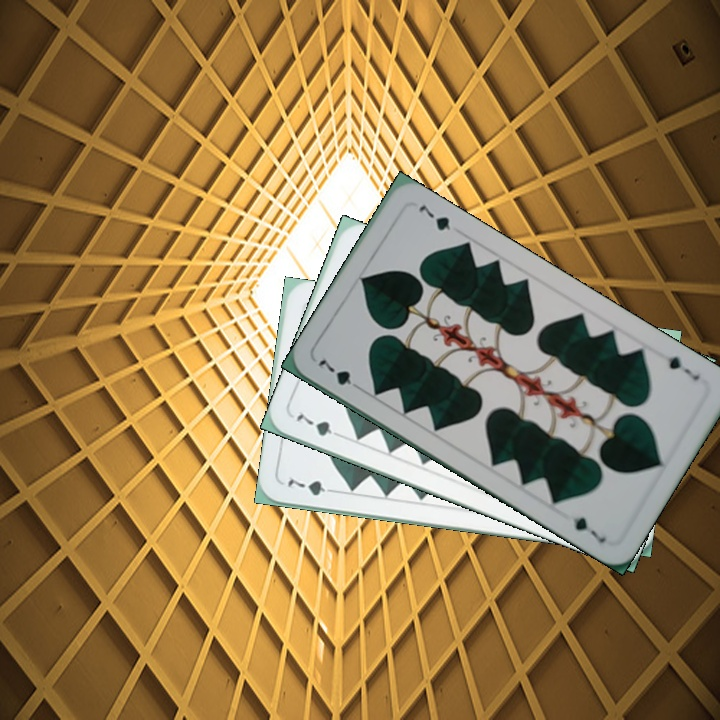G7: (314, 355, 366, 394), (292, 408, 347, 441), (283, 474, 340, 499), (663, 352, 703, 383)
